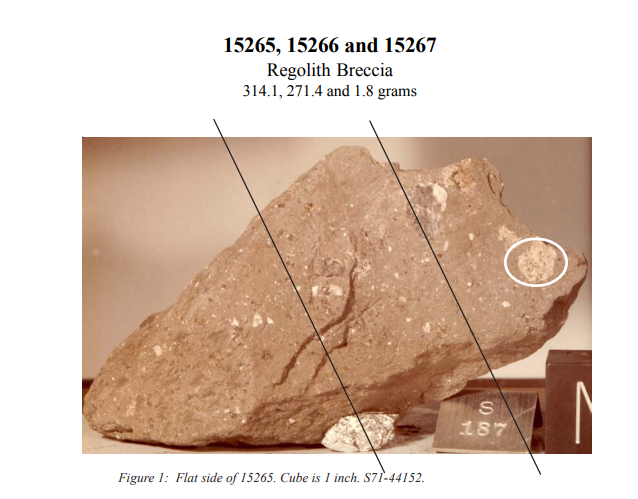Breccia: (86, 138, 589, 445)
